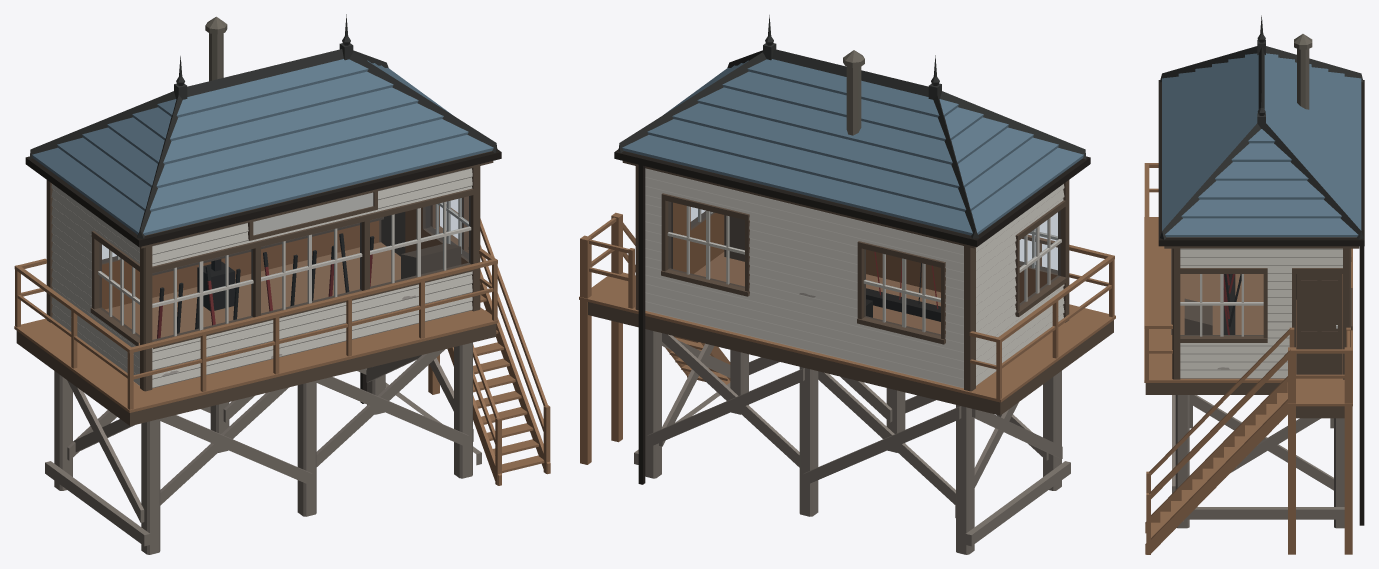
File: signal-box-f57a2d.glb
3 views of the same model, side by side, from view 1: azimuth 30°, elevation 25°; view 2: azimuth 150°, elevation 25°; view 3: azimuth 270°, elevation 25° (orthographic). The views are drawn at different scales.
Parts seen in each view (by area): view 1: box, glass, door-leaf; view 2: box, glass; view 3: box, door-leaf, glass.
Boxes of the visible parts, bbox=[...] form: box: bbox=[14, 14, 550, 554]; glass: bbox=[100, 196, 469, 340]; door-leaf: bbox=[381, 212, 405, 256]; box: bbox=[579, 15, 1115, 554]; glass: bbox=[669, 202, 1059, 334]; box: bbox=[1144, 15, 1364, 554]; door-leaf: bbox=[1296, 274, 1342, 374]; glass: bbox=[1181, 274, 1262, 335].
Bounding box in the file's own units: 7.96 × 8.18 × 3.97.
